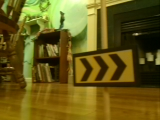right: (74, 50, 137, 85)
